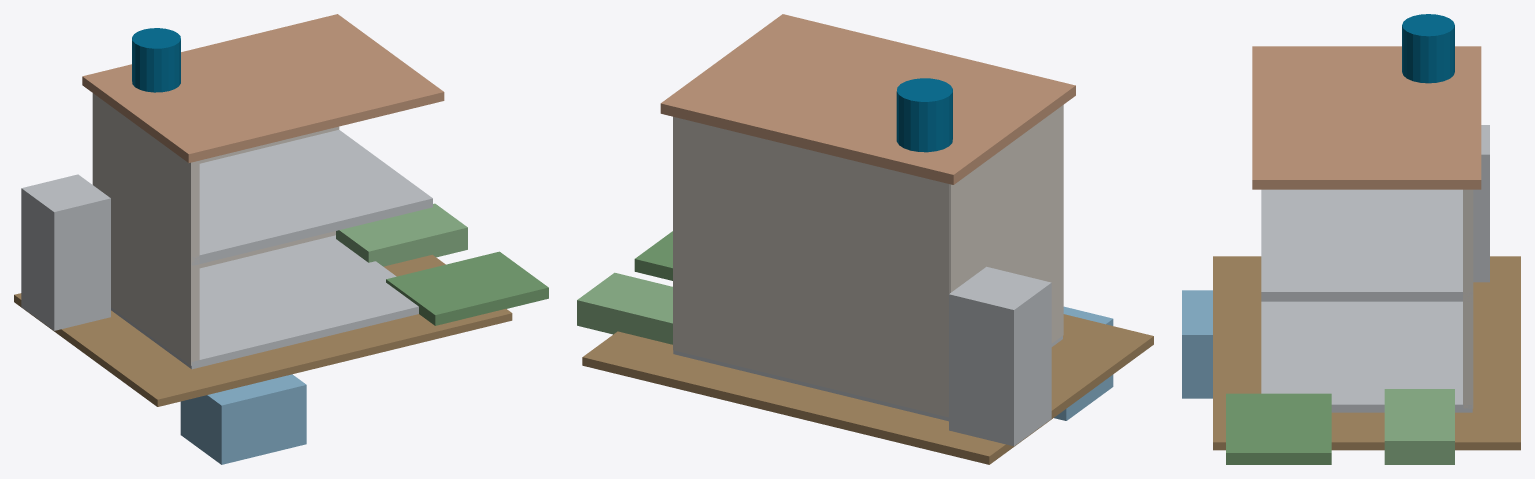
File: casa.gltf
3 renders of one model, left to right at view 1: azimuth 30°, elevation 25°; view 2: azimuth 150°, elevation 25°; view 3: azimuth 270°, elevation 25°, orthographic. The views are drawn at different scales.
Visible parts, largest first — view 1: azotea, muro_izq, entrepiso, piso, suelo, banio_seco, cisterna, huerto, humedal, tinaco, muro_fondo; view 2: muro_fondo, azotea, suelo, banio_seco, muro_izq, humedal, tinaco, piso, huerto, cisterna; view 3: azotea, entrepiso, piso, suelo, huerto, humedal, tinaco, cisterna, muro_fondo, banio_seco.
Part boxes in pixels (bbox=[...]): azotea: bbox=[82, 14, 444, 162]; muro_izq: bbox=[92, 93, 199, 365]; entrepiso: bbox=[191, 130, 432, 265]; piso: bbox=[111, 235, 418, 369]; suelo: bbox=[14, 254, 512, 406]; banio_seco: bbox=[21, 174, 110, 330]; cisterna: bbox=[180, 374, 306, 464]; huerto: bbox=[386, 251, 548, 325]; humedal: bbox=[336, 203, 467, 266]; tinaco: bbox=[132, 28, 180, 92]; muro_fondo: bbox=[199, 126, 339, 268]; muro_fondo: bbox=[673, 116, 950, 417]; azotea: bbox=[660, 14, 1075, 184]; suelo: bbox=[582, 314, 1153, 464]; banio_seco: bbox=[949, 266, 1051, 446]; muro_izq: bbox=[950, 105, 1063, 343]; humedal: bbox=[577, 272, 672, 344]; tinaco: bbox=[896, 78, 952, 152]; piso: bbox=[673, 336, 1062, 421]; huerto: bbox=[634, 231, 672, 280]; cisterna: bbox=[1054, 306, 1113, 420]; azotea: bbox=[1252, 46, 1481, 189]; entrepiso: bbox=[1261, 189, 1472, 301]; piso: bbox=[1261, 301, 1472, 412]; suelo: bbox=[1213, 256, 1520, 450]; huerto: bbox=[1226, 393, 1331, 464]; humedal: bbox=[1384, 389, 1454, 464]; tinaco: bbox=[1402, 14, 1454, 83]; cisterna: bbox=[1182, 290, 1212, 398]; muro_fondo: bbox=[1463, 189, 1473, 408]; banio_seco: bbox=[1473, 125, 1489, 282].
Bounding box in the file's own units: 5.7 × 4.45 × 3.85.
